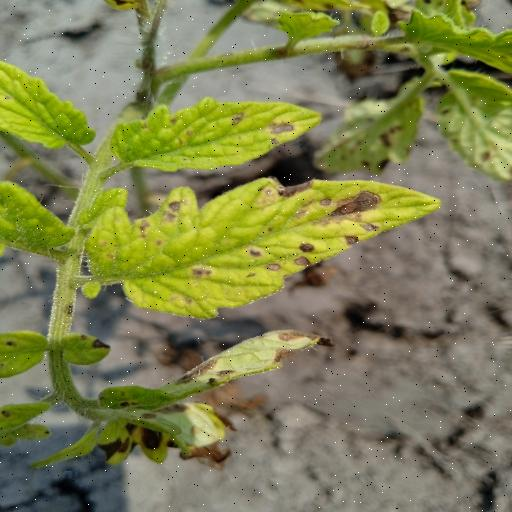Tomato_Brown_Spots: (76, 176, 443, 320), (109, 95, 324, 171)
